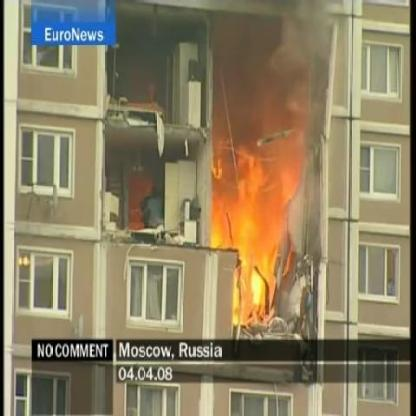fire: (234, 212, 275, 322), (209, 218, 230, 252)
